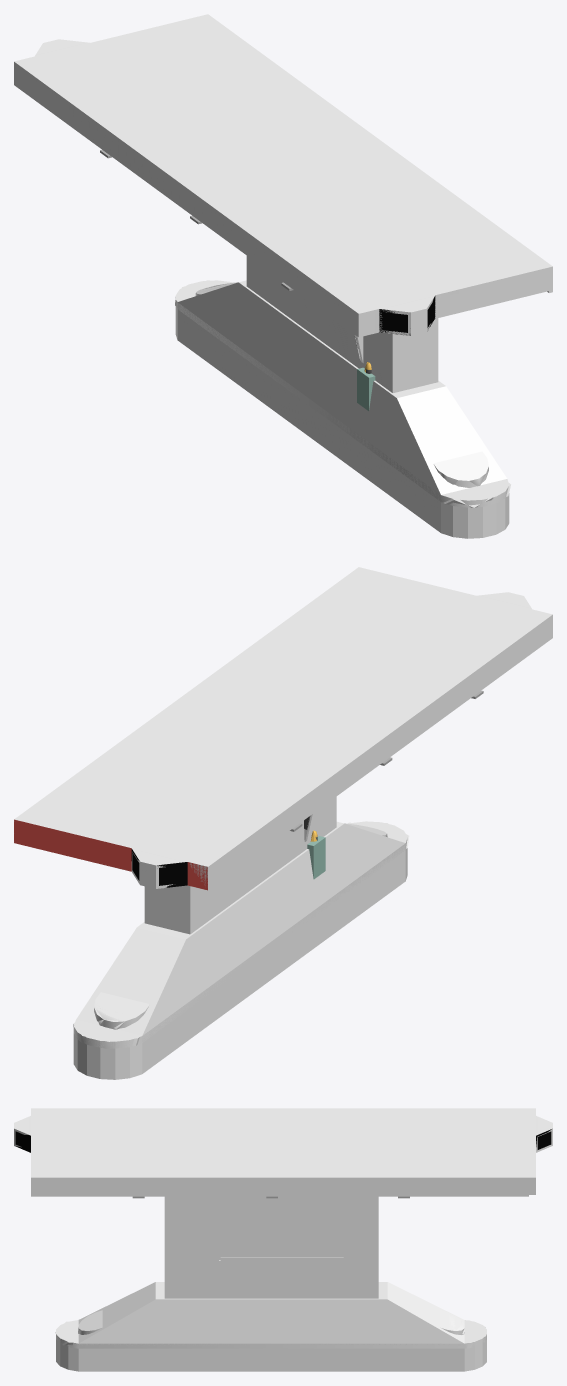
The model's file is toll.dae.
The picture shows the model from 3 angles, top to bottom: view 1: azimuth 30°, elevation 25°; view 2: azimuth 150°, elevation 25°; view 3: azimuth 270°, elevation 25°; orthographic projection. The views are drawn at different scales.
Visible parts, largest first — view 1: Colmesh-1, toll_a400, toll_a200; view 2: Colmesh-1, toll_a400, toll_a200; view 3: Colmesh-1, toll_a400, toll_a200.
Boxes of the visible parts, <box> form: Colmesh-1: <box>14,14,552,538</box>; toll_a400: <box>14,39,552,507</box>; toll_a200: <box>35,40,552,507</box>; Colmesh-1: <box>14,567,552,1079</box>; toll_a400: <box>14,592,552,1048</box>; toll_a200: <box>14,592,531,1048</box>; Colmesh-1: <box>31,1108,535,1371</box>; toll_a400: <box>14,1116,552,1348</box>; toll_a200: <box>14,1116,551,1348</box>.
Size of the model in its own units: 4.3 by 14.13 by 5.74.
